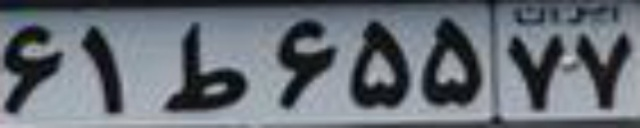1: (79, 23, 125, 113)
5: (419, 16, 485, 106), (349, 19, 412, 108)
6: (275, 19, 338, 109), (4, 24, 64, 114)
7: (507, 31, 566, 112), (576, 29, 632, 110)
taa: (160, 19, 246, 111)
